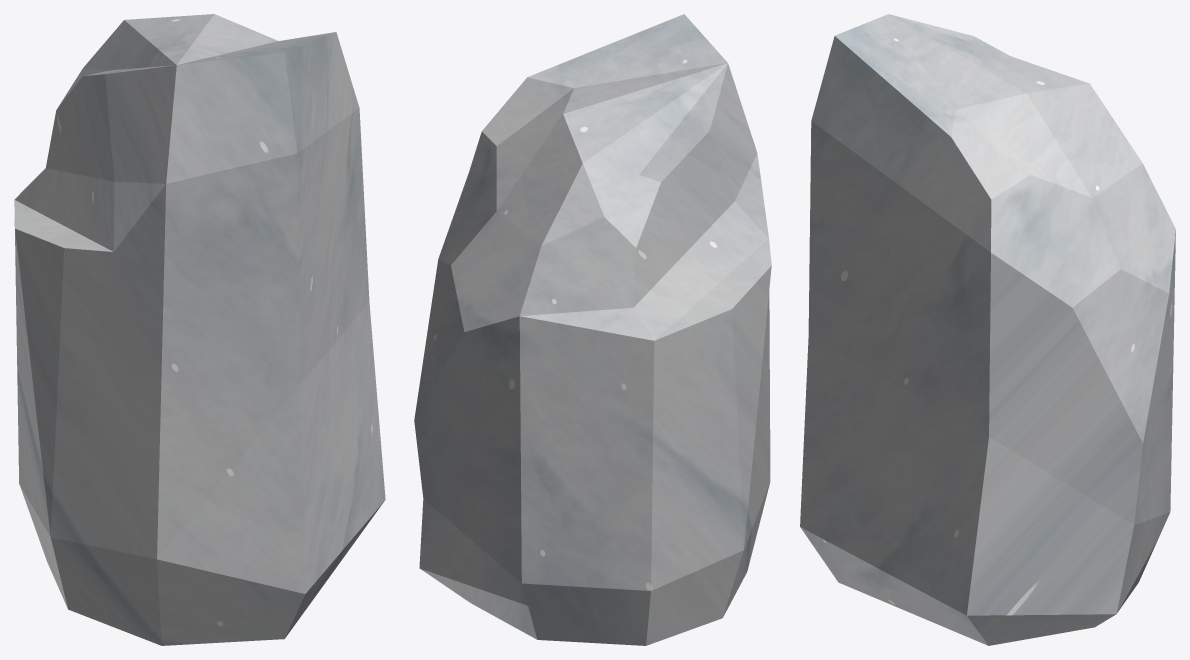
Rendered from BG_Rock_2.fbx.
3 renders of one model, left to right at view 1: azimuth 30°, elevation 25°; view 2: azimuth 150°, elevation 25°; view 3: azimuth 270°, elevation 25°, orthographic. The views are drawn at different scales.
Visible parts, largest first — view 1: Background_Rock_2; view 2: Background_Rock_2; view 3: Background_Rock_2.
Boxes of the visible parts, box(x1,y1,x2,y2) form: Background_Rock_2: box(14, 14, 385, 645); Background_Rock_2: box(414, 14, 771, 645); Background_Rock_2: box(800, 14, 1175, 645).
Size of the model in its own units: 8.26 by 13.9 by 8.68.
1 material, 1 textured.
